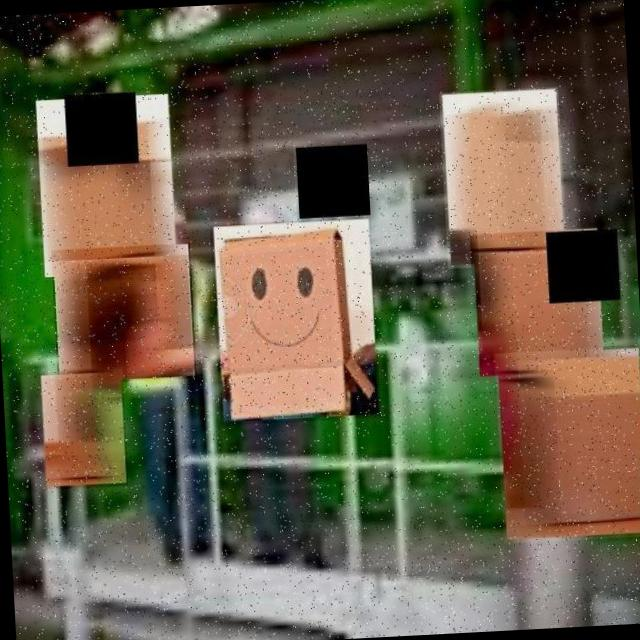box: (210, 217, 381, 426), (494, 346, 640, 543), (32, 91, 179, 282), (439, 86, 567, 268), (51, 244, 196, 386), (469, 228, 606, 378), (38, 368, 129, 491)
